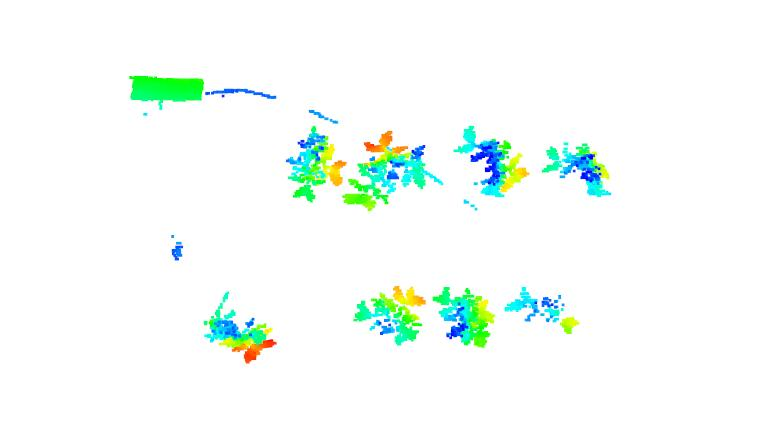chickpea: (344, 131, 432, 210), (452, 125, 530, 198), (350, 282, 429, 344), (287, 124, 344, 203), (544, 140, 617, 200), (199, 313, 277, 364), (434, 285, 497, 348), (501, 288, 577, 335)
